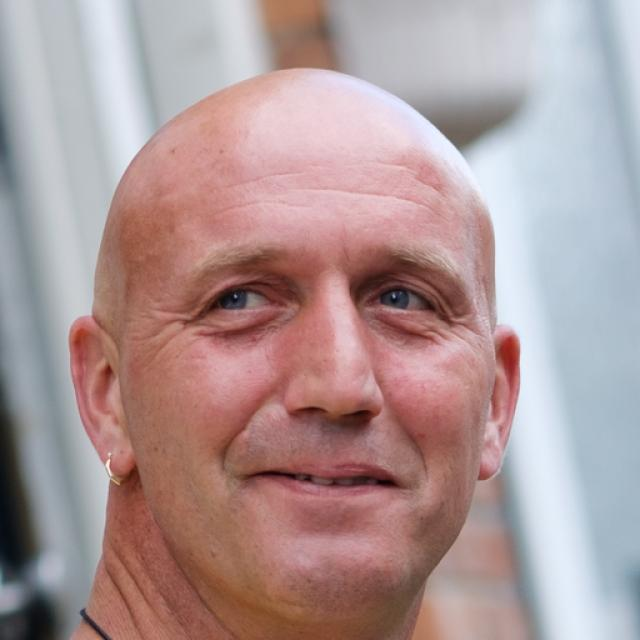Wrinkle: (308, 182, 444, 220), (384, 382, 428, 481), (217, 391, 263, 473), (225, 167, 310, 190), (211, 196, 315, 210), (410, 176, 446, 198)
